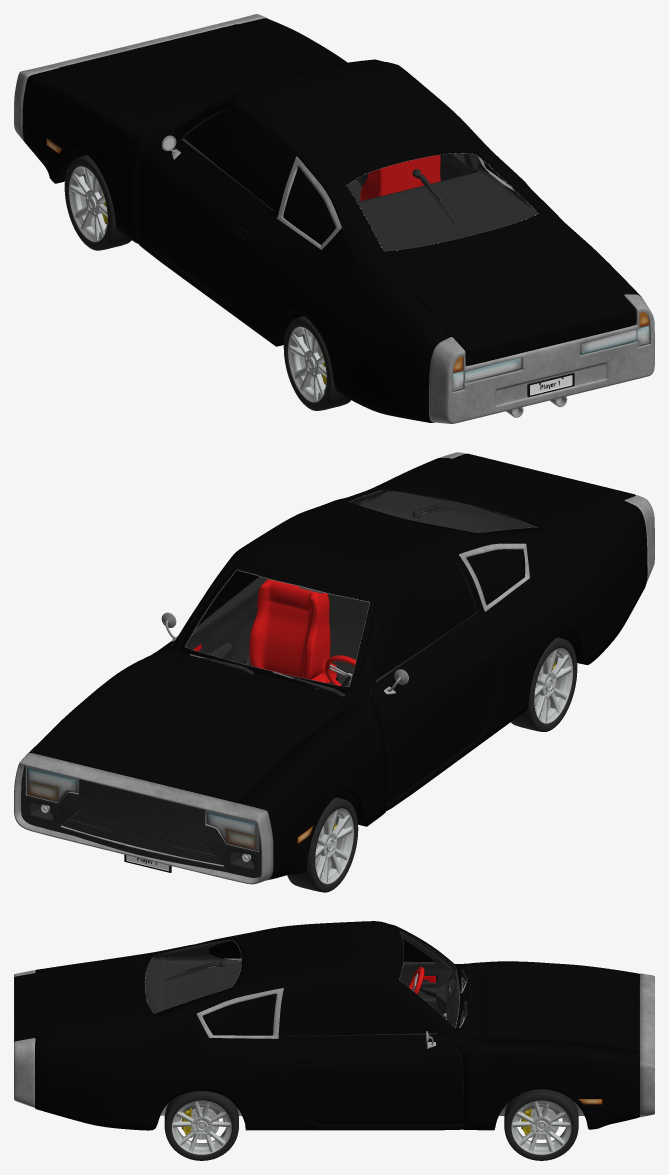
File: StylizedMuscleCar.fbx
The picture shows the model from 3 angles, top to bottom: view 1: azimuth 30°, elevation 25°; view 2: azimuth 150°, elevation 25°; view 3: azimuth 270°, elevation 25°; orthographic projection. The views are drawn at different scales.
Visible parts, largest first — view 1: Car_LOD0, Trunk_LOD0, DoorLeft_LOD0, Hood_LOD0, WheelFL_LOD0, WheelBL_LOD0, DoorRight_LOD0; view 2: Car_LOD0, Hood_LOD0, DoorLeft_LOD0, Trunk_LOD0, DoorRight_LOD0, WheelFL_LOD0, WheelBL_LOD0; view 3: Car_LOD0, DoorRight_LOD0, Hood_LOD0, Trunk_LOD0, WheelFR_LOD0, WheelBR_LOD0, DoorLeft_LOD0.
Boxes of the visible parts, box(x1,y1,x2,y2) form: Car_LOD0: box(14, 14, 654, 423); Trunk_LOD0: box(387, 218, 636, 365); DoorLeft_LOD0: box(137, 104, 295, 304); Hood_LOD0: box(59, 24, 323, 129); WheelFL_LOD0: box(64, 155, 131, 250); WheelBL_LOD0: box(283, 316, 350, 410); DoorRight_LOD0: box(357, 153, 478, 186); Car_LOD0: box(14, 452, 654, 884); Hood_LOD0: box(59, 660, 345, 802); DoorLeft_LOD0: box(369, 555, 501, 802); Trunk_LOD0: box(387, 453, 635, 525); DoorRight_LOD0: box(158, 570, 267, 665); WheelFL_LOD0: box(287, 797, 358, 892); WheelBL_LOD0: box(511, 637, 577, 731); Car_LOD0: box(14, 921, 654, 1137); DoorRight_LOD0: box(278, 983, 463, 1124); Hood_LOD0: box(468, 968, 639, 1051); Trunk_LOD0: box(14, 955, 148, 1041); WheelFR_LOD0: box(504, 1089, 578, 1160); WheelBR_LOD0: box(164, 1091, 238, 1160); DoorLeft_LOD0: box(399, 933, 452, 1017).
Size of what is drawn, in the model's own units: 1.84 by 5.23 by 1.5.
